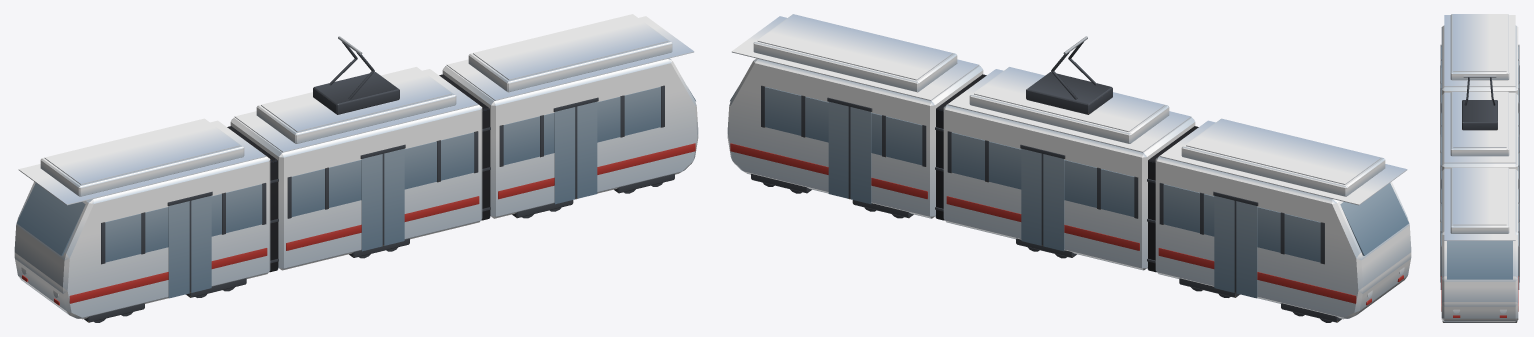
The model's file is ck_tram.fbx.
3 renders of one model, left to right at view 1: azimuth 30°, elevation 25°; view 2: azimuth 150°, elevation 25°; view 3: azimuth 270°, elevation 25°, orthographic. The views are drawn at different scales.
Parts seen in each view (by area): view 1: ck_tram; view 2: ck_tram; view 3: ck_tram.
Part boxes in pixels (x1=…): ck_tram: x1=14, y1=14, x2=698, y2=322; ck_tram: x1=727, y1=14, x2=1411, y2=322; ck_tram: x1=1440, y1=14, x2=1519, y2=322.
Bounding box in the file's own units: 2500 × 737 × 368.
